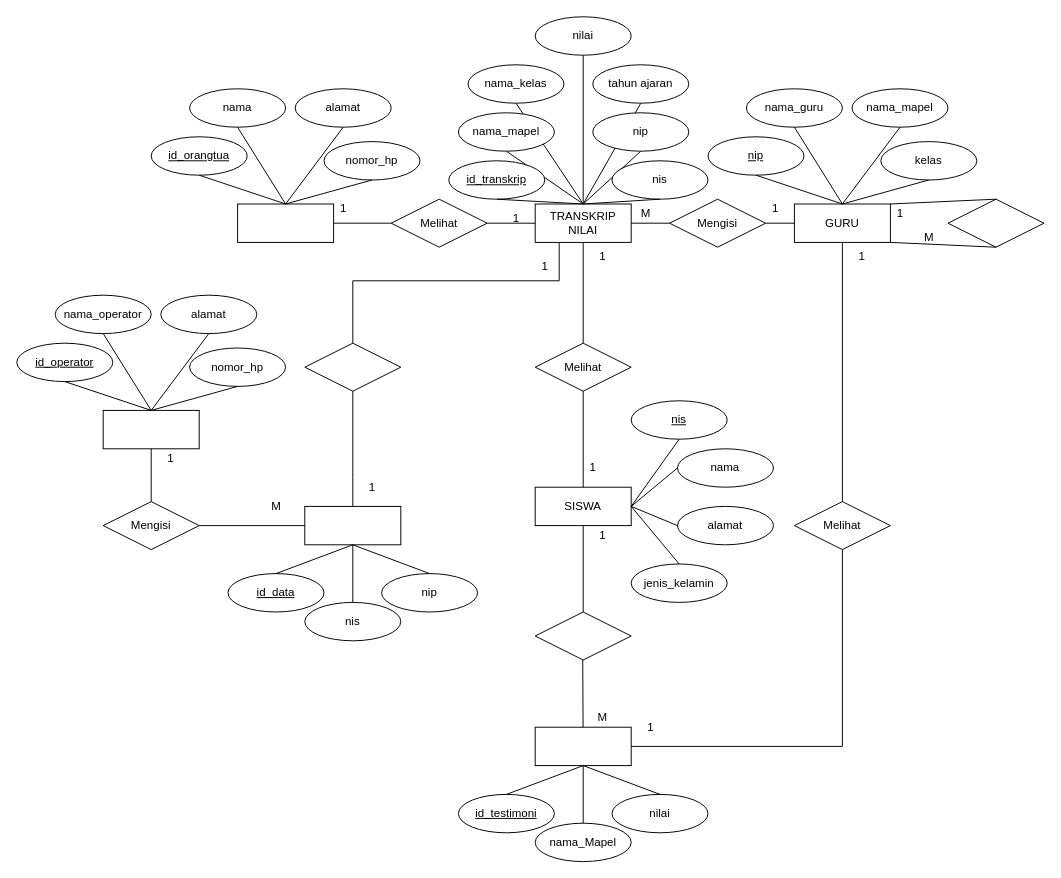
The diagram is 1061 pixels wide and 878 high, and some of its shapes have lost their labels. The shapes that lost their labels are listed below. From the top down, each one's box as (x1, y1, x2, y2) in pixels, then its label:
(237, 203, 334, 242): ORANG TUA SISWA
(947, 198, 1044, 247): Input Nilai
(304, 342, 401, 391): Tampil
(102, 409, 199, 449): OPERATOR
(304, 505, 401, 545): DATA
(534, 611, 631, 660): Memberikan
(534, 726, 631, 766): TESTIMONI
